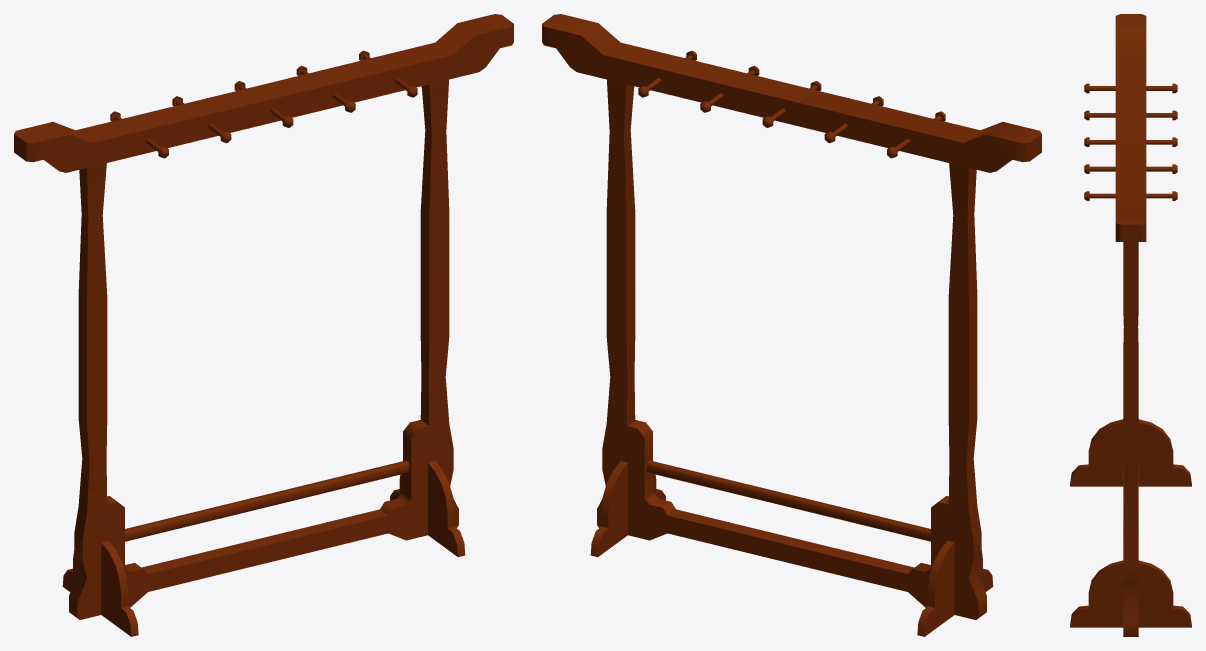
Rendered from brushHolder.fbx.
The picture shows the model from 3 angles, left to right: view 1: azimuth 30°, elevation 25°; view 2: azimuth 150°, elevation 25°; view 3: azimuth 270°, elevation 25°; orthographic projection. The views are drawn at different scales.
Parts seen in each view (by area): view 1: polySurface65; view 2: polySurface65; view 3: polySurface65.
Part boxes in pixels (left/top/right/bottom): polySurface65: left=14, top=14, right=513, bottom=636; polySurface65: left=542, top=14, right=1041, bottom=636; polySurface65: left=1070, top=14, right=1191, bottom=636.
Size of the model in its own units: 11.76 by 11.35 by 2.87.
